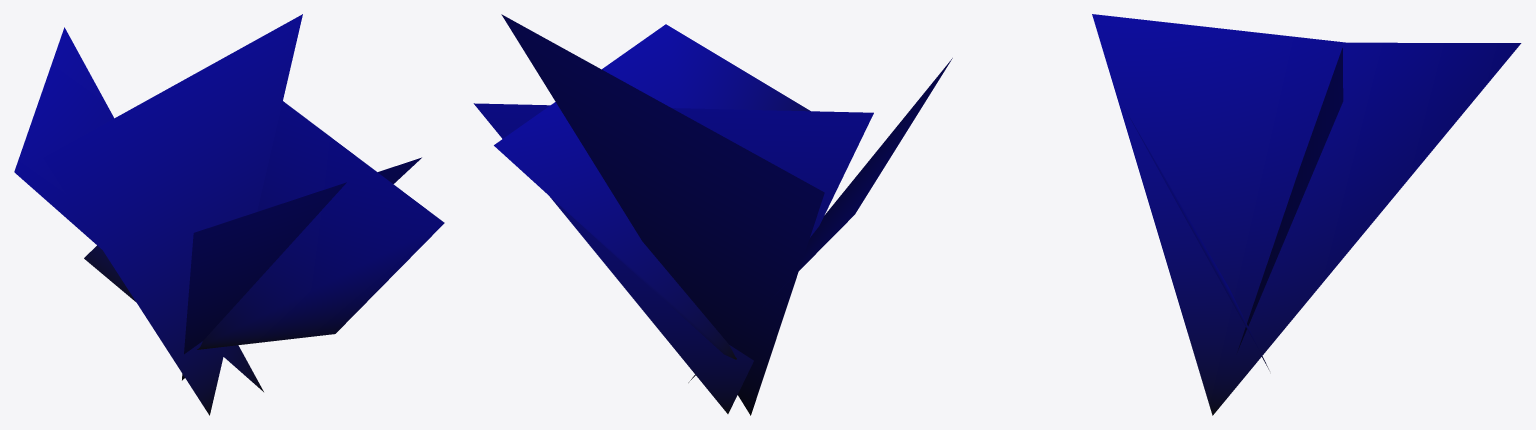
The model's file is SM_Grass_Crab_03.fbx.
3 renders of one model, left to right at view 1: azimuth 30°, elevation 25°; view 2: azimuth 150°, elevation 25°; view 3: azimuth 270°, elevation 25°, orthographic. The views are drawn at different scales.
Parts seen in each view (by area): view 1: SM_Grass_Crab_03; view 2: SM_Grass_Crab_03; view 3: SM_Grass_Crab_03.
Boxes of the visible parts, bbox=[...] form: SM_Grass_Crab_03: bbox=[14, 14, 444, 415]; SM_Grass_Crab_03: bbox=[473, 14, 952, 415]; SM_Grass_Crab_03: bbox=[1092, 14, 1521, 415].
Bounding box in the file's own units: 27.83 × 31.06 × 24.3.
